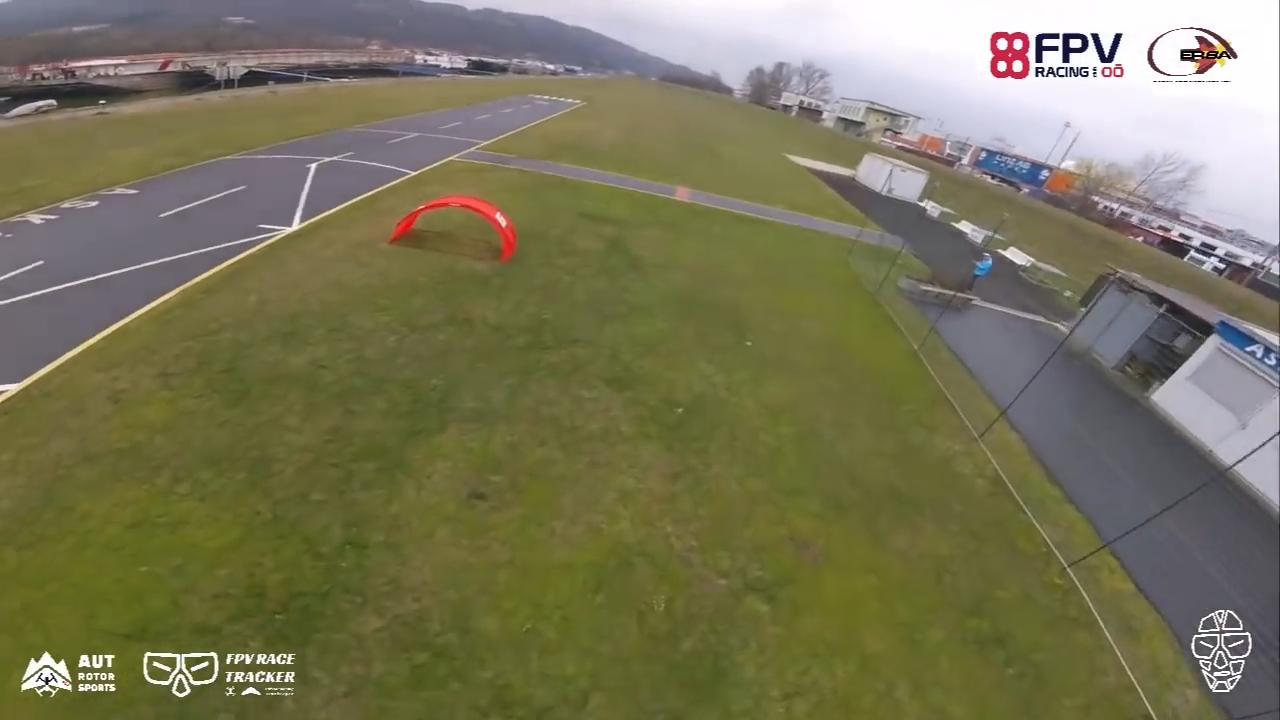gate: (386, 193, 519, 268)
